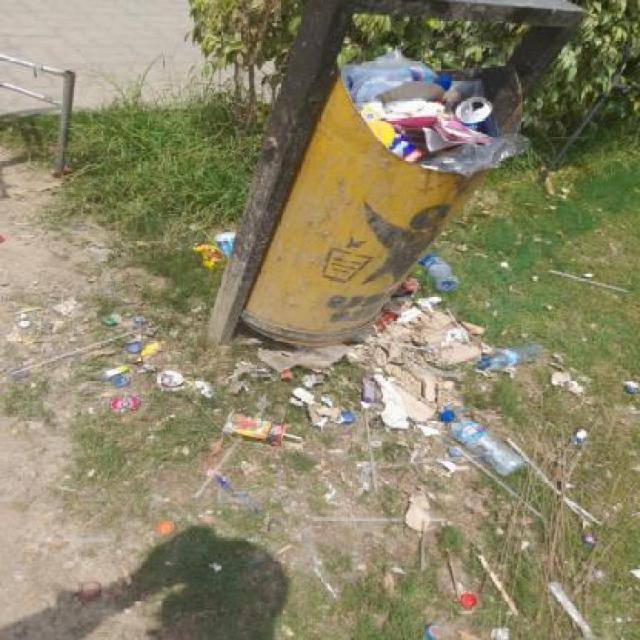garbage: (13, 292, 640, 636), (337, 43, 576, 204), (168, 225, 247, 288), (396, 252, 467, 293)
